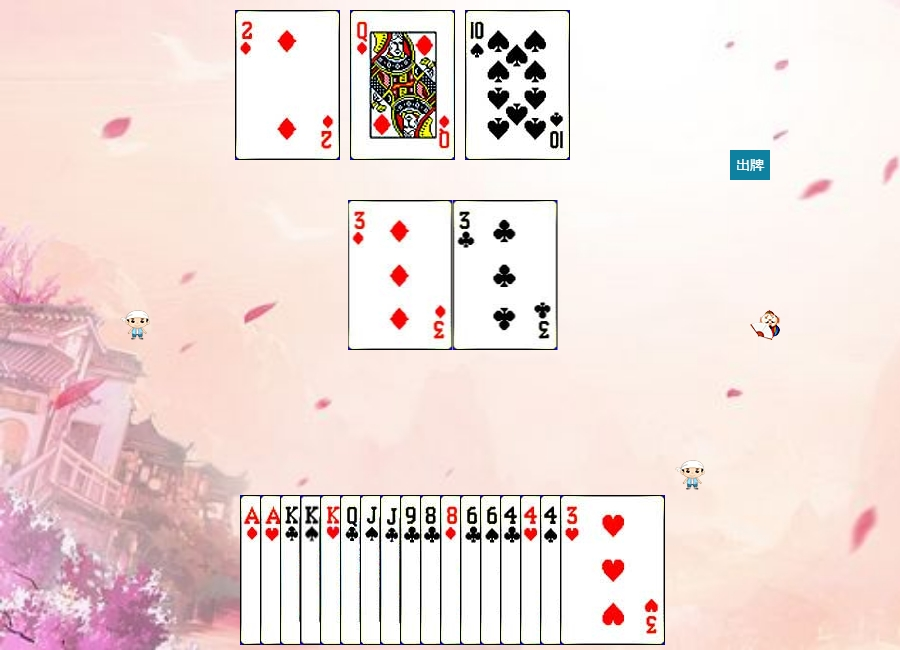10~4: (465, 10, 570, 160)
11~2: (380, 495, 485, 645)
11~4: (360, 495, 465, 645)
12~1: (350, 10, 455, 160)
12~2: (340, 495, 445, 645)
13~2: (280, 495, 385, 645)
13~3: (320, 495, 425, 645)
13~4: (300, 495, 405, 645)
14~1: (240, 495, 345, 645)
14~3: (260, 495, 365, 645)
15~1: (235, 10, 340, 160)
3~1: (348, 200, 453, 350)
3~2: (453, 200, 558, 350)
3~3: (560, 495, 665, 645)
4~2: (500, 495, 605, 645)
4~3: (520, 495, 625, 645)
4~4: (540, 495, 645, 645)
6~2: (460, 495, 565, 645)
6~4: (480, 495, 585, 645)
8~1: (440, 495, 545, 645)
8~2: (420, 495, 525, 645)
9~2: (400, 495, 505, 645)
